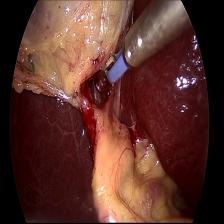Bipolar: (92, 19, 147, 102)
